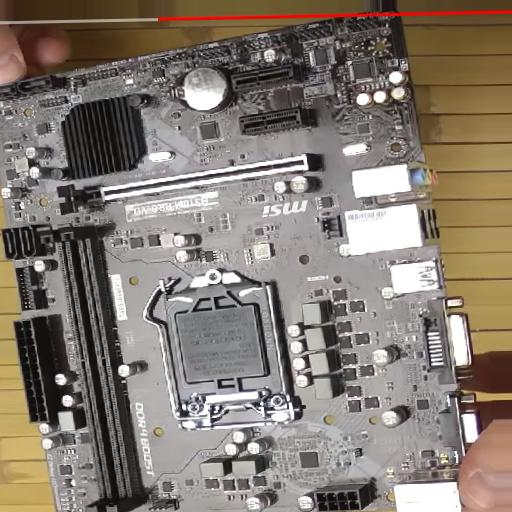CPU: (164, 270, 293, 431)
GPU: (56, 154, 316, 217)
MOTHERBOARD: (1, 12, 469, 511)
RAM: (39, 225, 150, 512)
